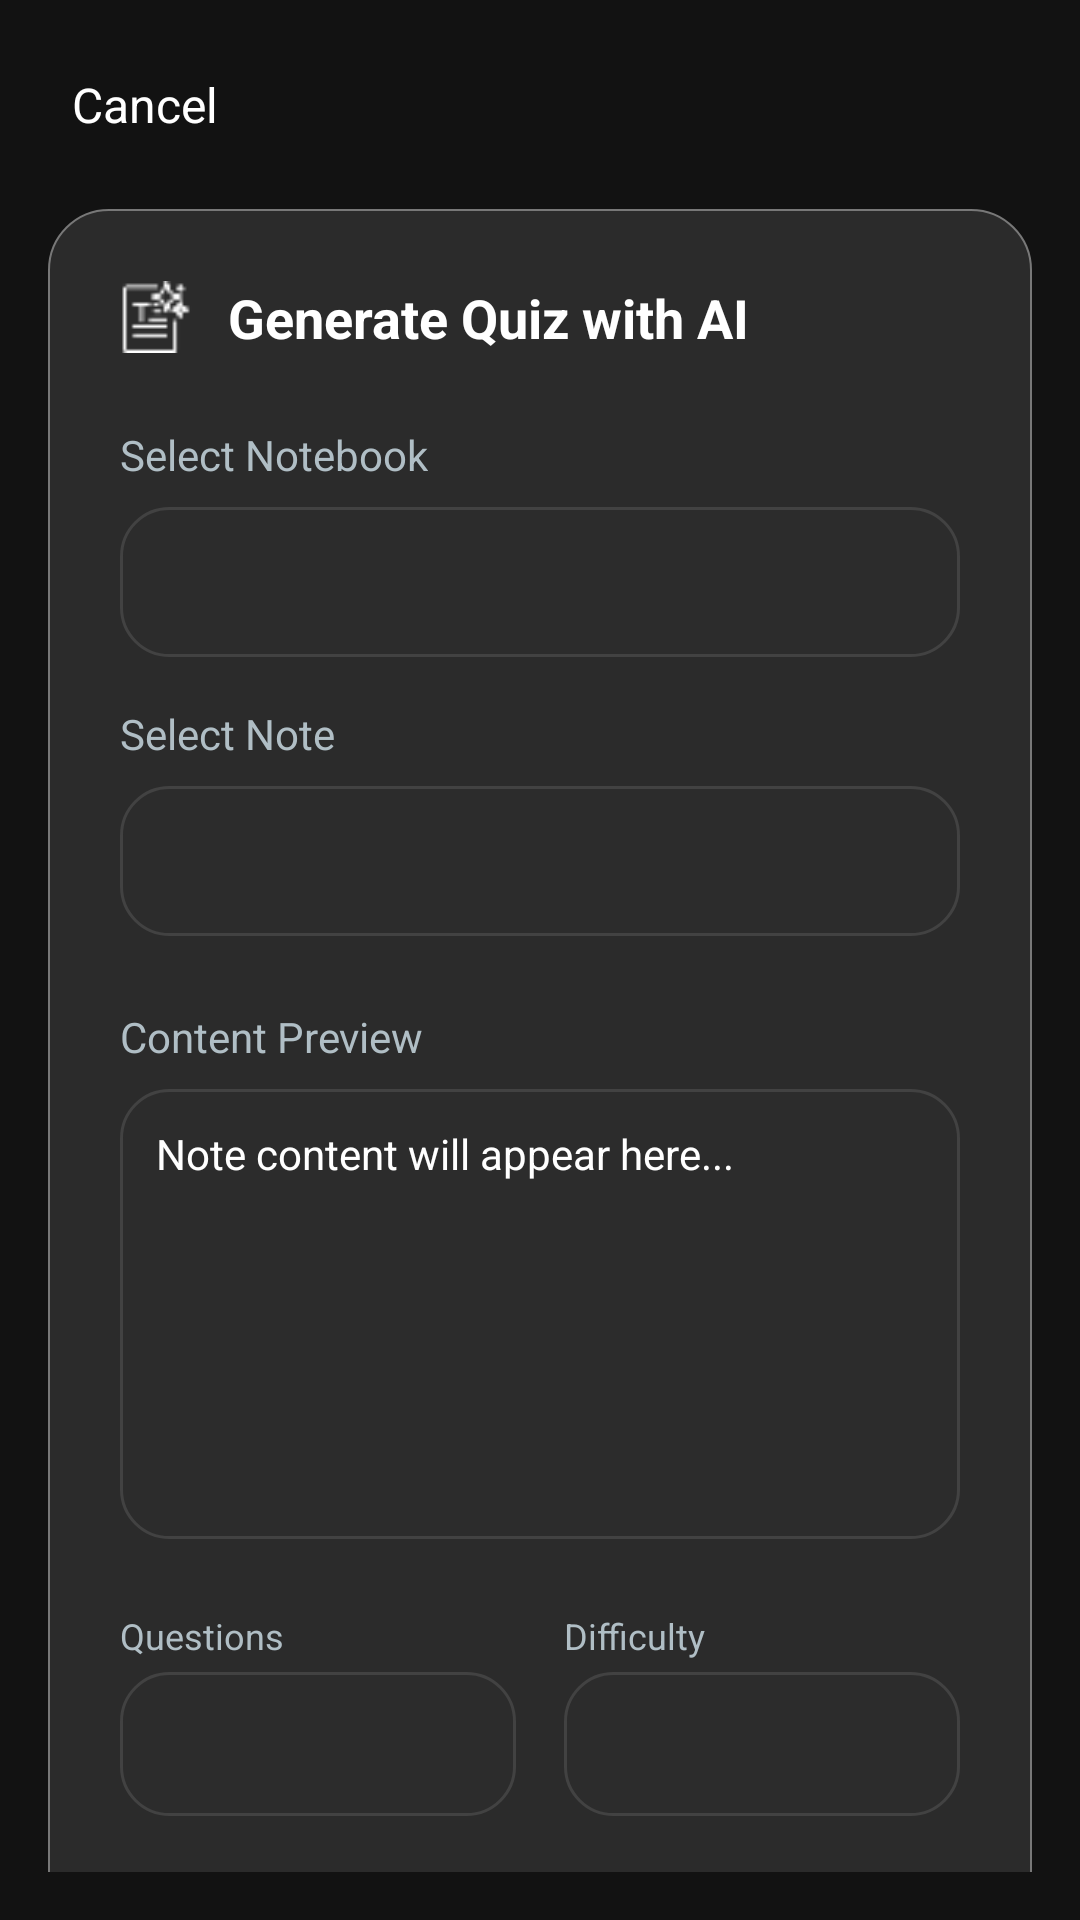

Point at icon controls on the screen. Image size 1080x1920, points as (x=x, y=y).
aisummarize: (x=156, y=317)
